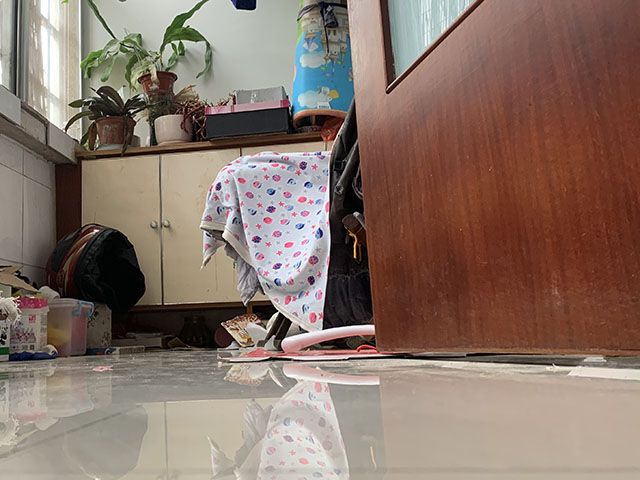cabinet: (75, 131, 337, 314)
